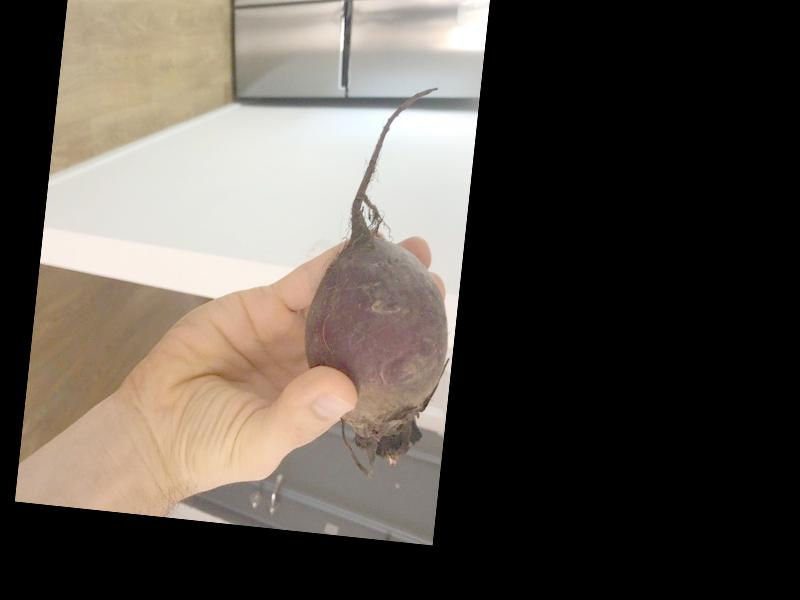Beet: (293, 78, 477, 483)
